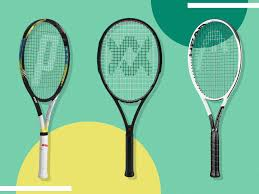tennis racket: (95, 15, 163, 177), (16, 19, 76, 180), (186, 18, 244, 181)
